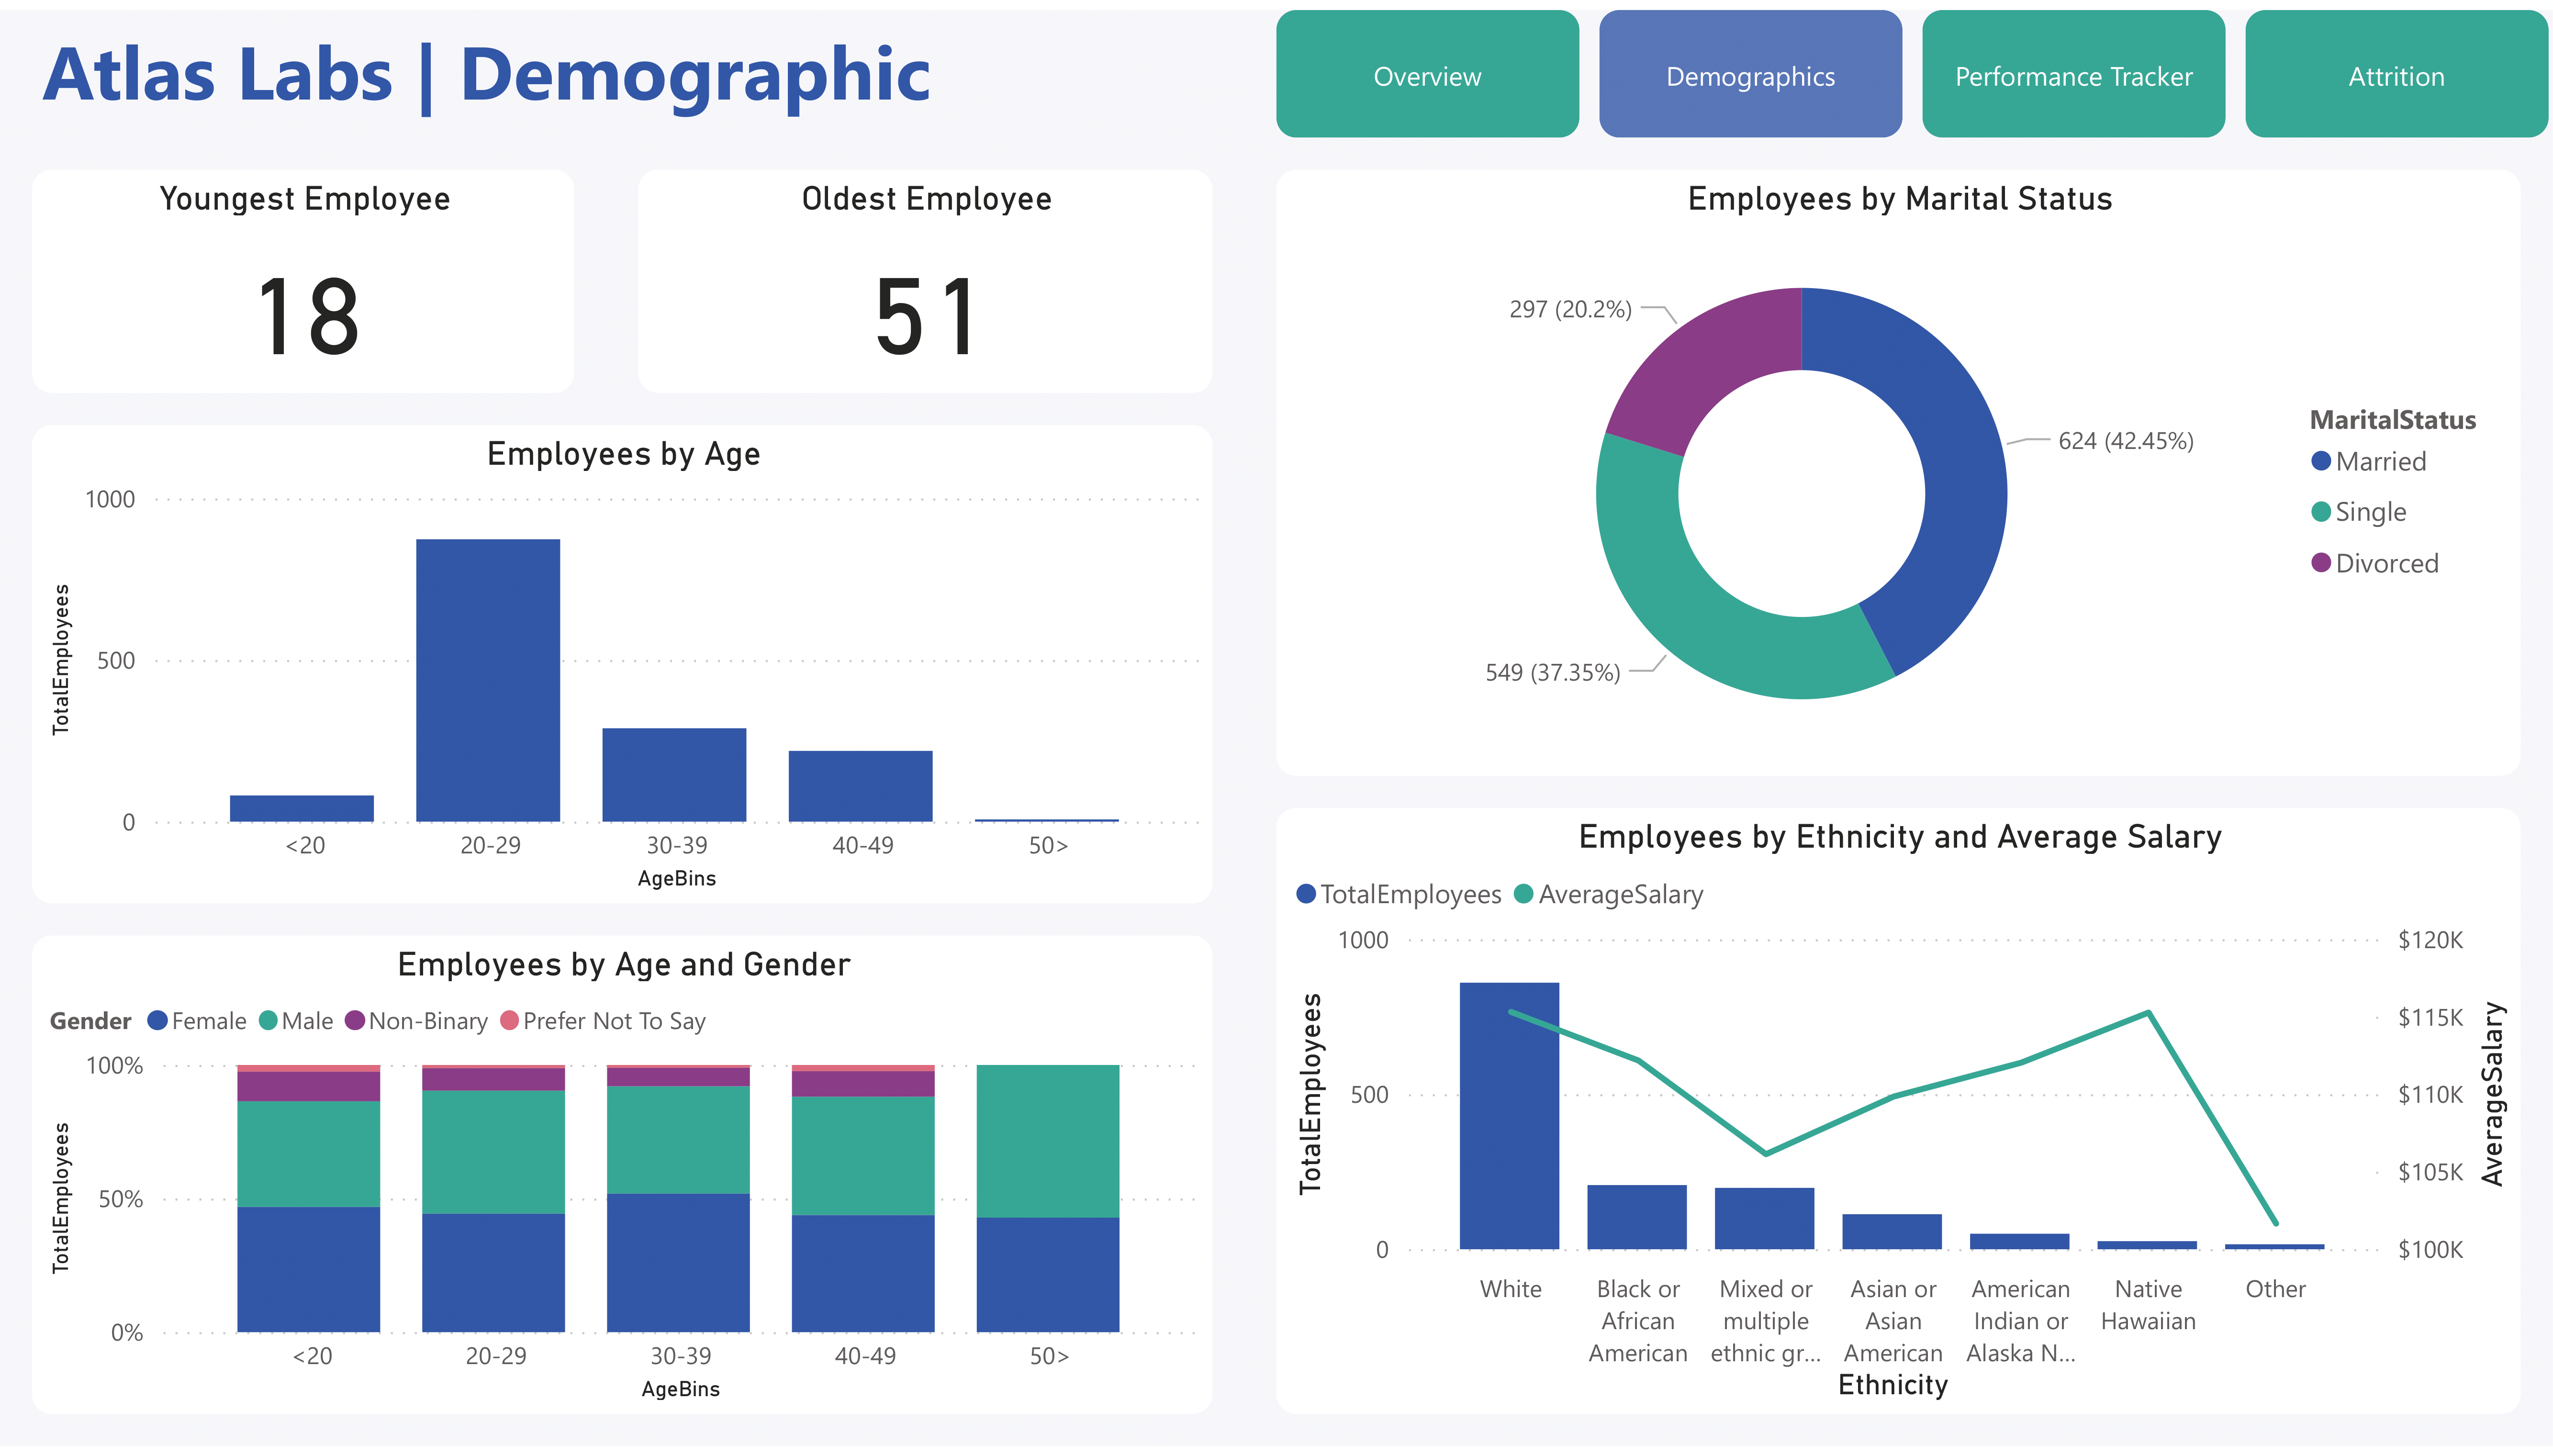

This screenshot's page, from the dashboard's own definition file:
{"tool":"powerbi","page":{"name":"Demographics","canvas":[1280,720],"ordinal":1},"visuals":[{"type":"card","title":"Youngest Employee","fields":{"Values":["Min(DimEmployee.Age)"]},"box":[16,80,272,112],"z":0},{"type":"card","title":"Oldest Employee","fields":{"Values":["Max(DimEmployee.Age)"]},"box":[320,80,288,112],"z":1000},{"type":"columnChart","title":"Employees by Age","fields":{"Category":["DimEmployee.AgeBins"],"Y":["_Measures.TotalEmployees"]},"box":[16,208,592,240],"z":2000},{"type":"hundredPercentStackedColumnChart","title":"Employees by Age and Gender","fields":{"Category":["DimEmployee.AgeBins"],"Series":["DimEmployee.Gender"],"Y":["_Measures.TotalEmployees"]},"box":[16,464,592,240],"z":3000},{"type":"donutChart","title":"Employees by Marital Status","fields":{"Category":["DimEmployee.MaritalStatus"],"Y":["_Measures.TotalEmployees"]},"box":[640,80,624,304],"z":4000},{"type":"lineStackedColumnComboChart","title":"Employees by Ethnicity and Average Salary","fields":{"Category":["DimEmployee.Ethnicity"],"Y":["_Measures.TotalEmployees"],"Y2":["_Measures.AverageSalary"]},"box":[640,400,624,304],"z":5000},{"type":"pageNavigator","box":[640,0,640,64],"z":6000},{"type":"textbox","box":[15.9,0,537.2,63.6],"z":7000}]}

Visuals, with their boxes in screenshot pixels (x1, y1, x2, y2), scaled from the page's 1280x720 canvas onto the 2553x1456 screenshot:
"Youngest Employee" card: x1=32 y1=162 x2=574 y2=388
"Oldest Employee" card: x1=638 y1=162 x2=1213 y2=388
"Employees by Age" columnChart: x1=32 y1=421 x2=1213 y2=906
"Employees by Age and Gender" hundredPercentStackedColumnChart: x1=32 y1=938 x2=1213 y2=1423
"Employees by Marital Status" donutChart: x1=1276 y1=162 x2=2521 y2=776
"Employees by Ethnicity and Average Salary" lineStackedColumnComboChart: x1=1276 y1=809 x2=2521 y2=1423
pageNavigator: x1=1276 y1=0 x2=2553 y2=129
textbox: x1=32 y1=0 x2=1103 y2=129
